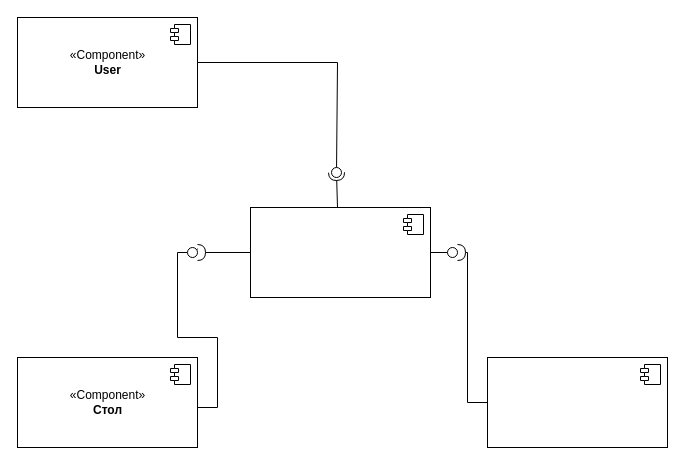
The diagram is 685 pixels wide and 465 high, and some of its shapes have lost their labels. Each missing label, with the box of its shape:
«Component» Админ: (486, 356, 668, 448)
«Component» Список столов: (250, 206, 430, 298)
